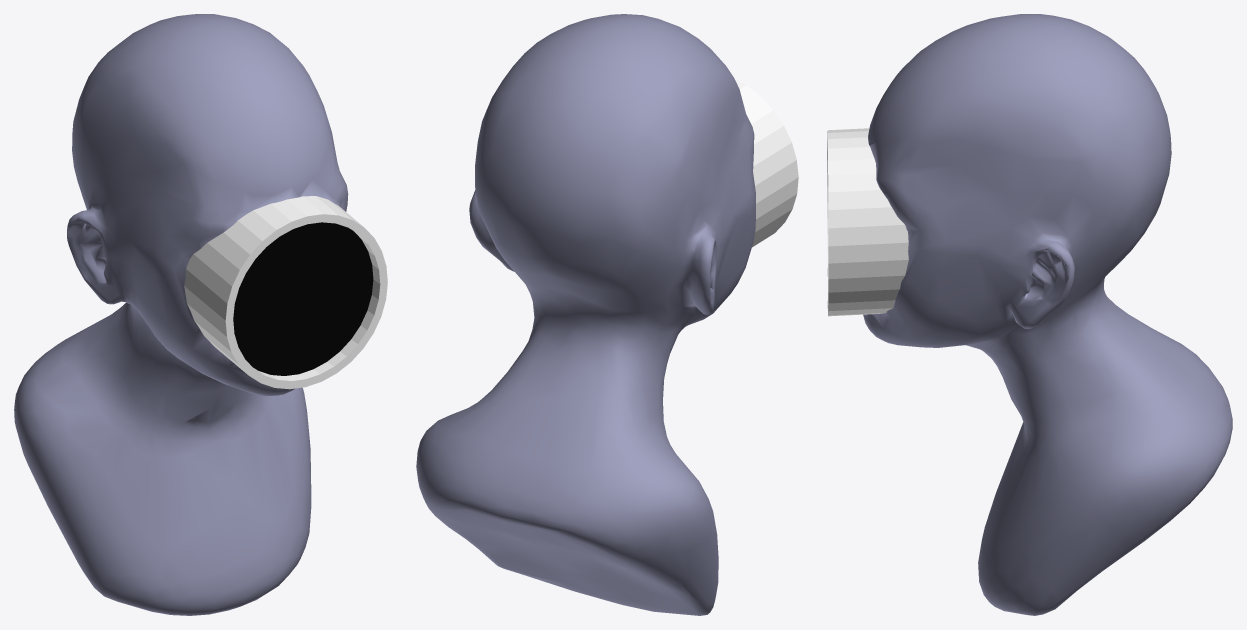
Rendered from monoorifice.glb.
3 renders of one model, left to right at view 1: azimuth 30°, elevation 25°; view 2: azimuth 150°, elevation 25°; view 3: azimuth 270°, elevation 25°, orthographic. The views are drawn at different scales.
Parts seen in each view (by area): view 1: young_boy_head_obj; view 2: young_boy_head_obj; view 3: young_boy_head_obj.
Boxes of the visible parts, bbox=[...] form: young_boy_head_obj: bbox=[14, 14, 387, 615]; young_boy_head_obj: bbox=[416, 14, 798, 615]; young_boy_head_obj: bbox=[827, 14, 1232, 615].
Size of the model in its own units: 0.6697 by 1.37 by 0.8875.
